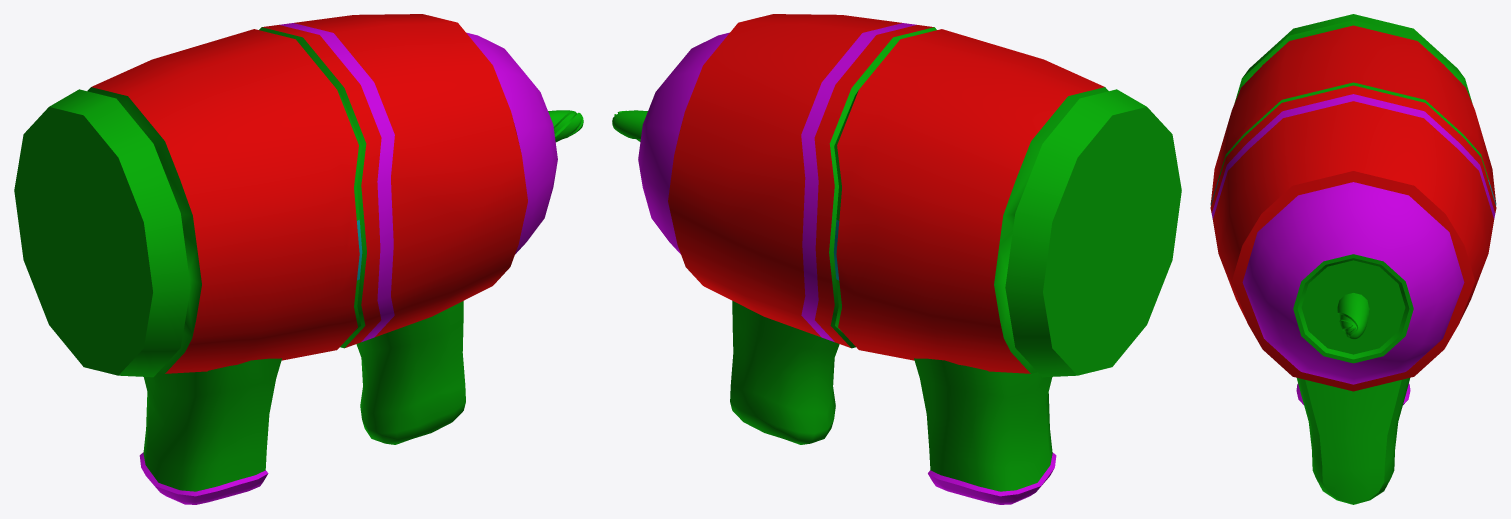
The model's file is SM0212_Lobby_Drill_01.fbx.
3 views of the same model, side by side, from view 1: azimuth 30°, elevation 25°; view 2: azimuth 150°, elevation 25°; view 3: azimuth 270°, elevation 25° (orthographic). The views are drawn at different scales.
Visible parts, largest first — view 1: SM0212_Lobby_Drill_01; view 2: SM0212_Lobby_Drill_01; view 3: SM0212_Lobby_Drill_01.
Boxes of the visible parts, box(x1,y1,x2,y2) form: SM0212_Lobby_Drill_01: box(14, 14, 583, 504); SM0212_Lobby_Drill_01: box(612, 14, 1181, 504); SM0212_Lobby_Drill_01: box(1210, 14, 1496, 504).
Size of the model in its own units: 145 by 83.03 by 119.
